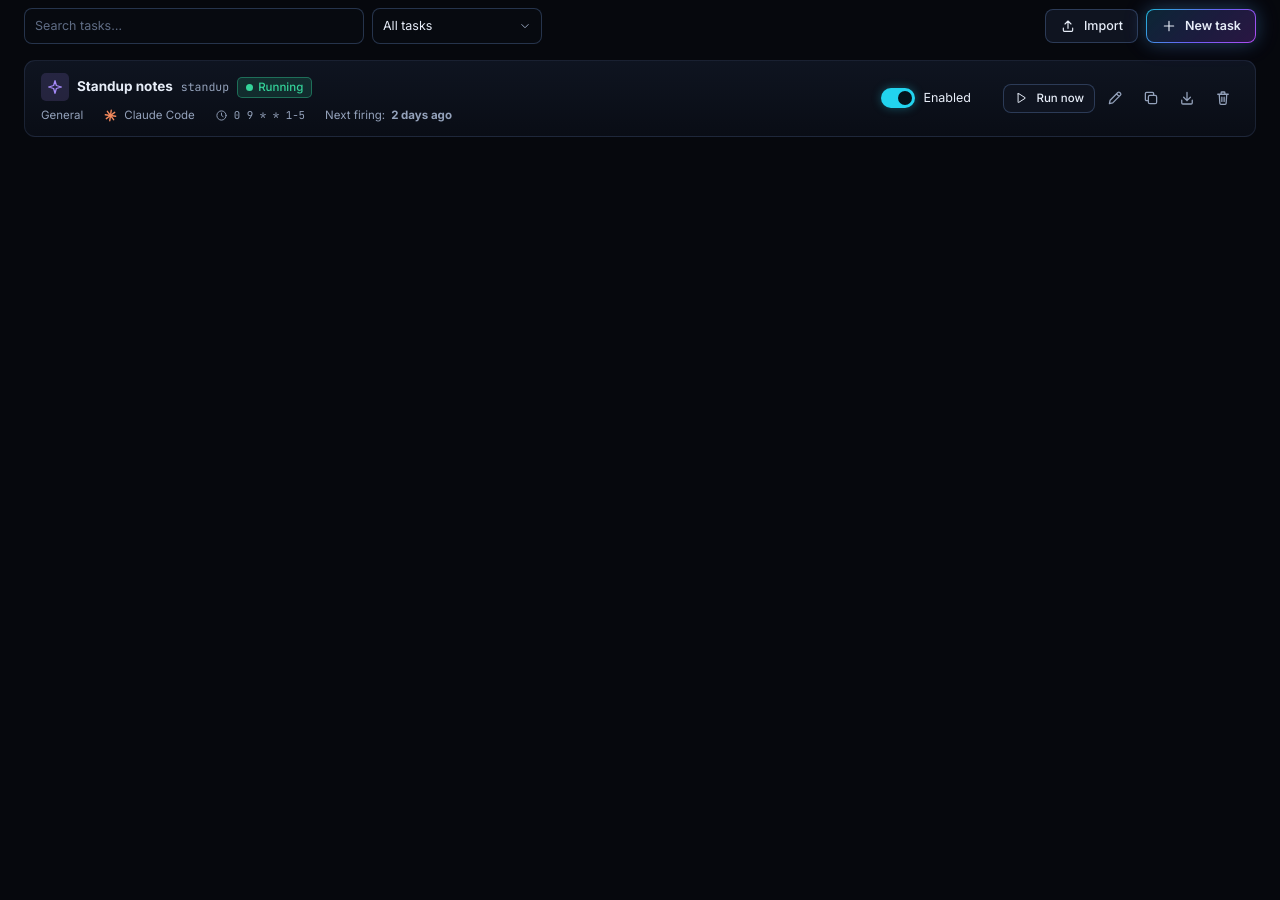
Test: the Tasks screen's Delete › says, for a running task, that the deletion waits for its execution, and shows a 202 as waiting
Click the button named "Delete" at (1223, 98), box [1207,82,1239,114]
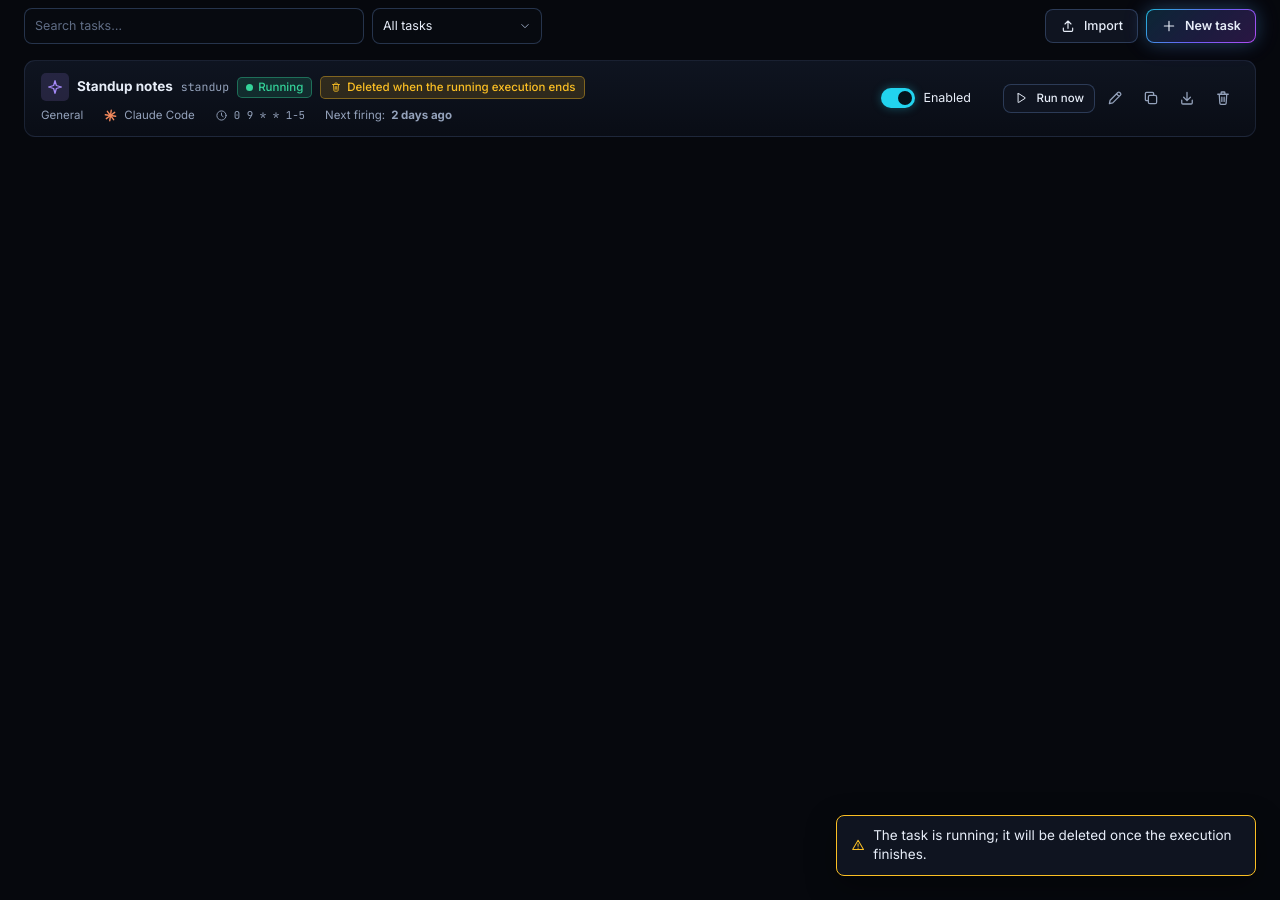
Expected: the element with class "task-row" shows "Deleted when the running execution ends", [347,80,576,94]
